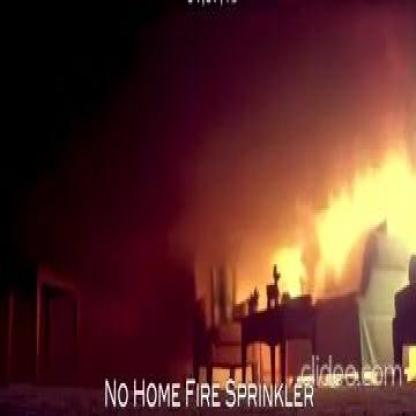fire: (312, 150, 416, 245), (314, 173, 360, 285), (278, 243, 308, 295)
